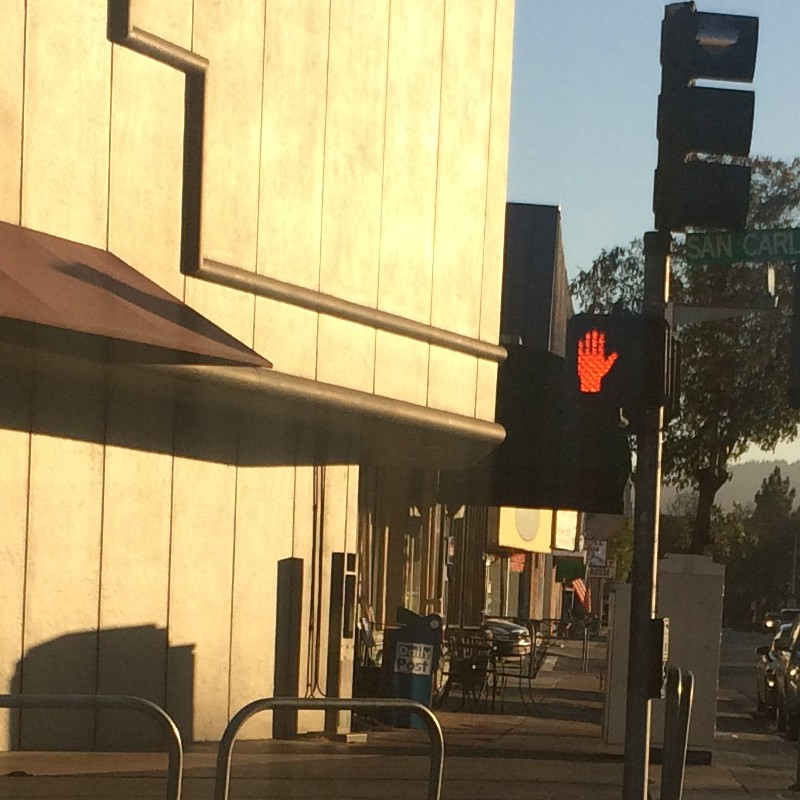stop: (566, 311, 658, 407)
